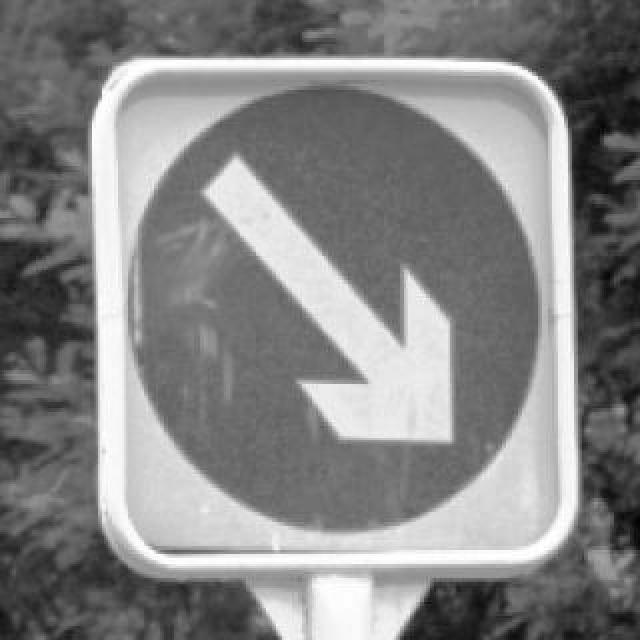keep right: (124, 82, 544, 534)
